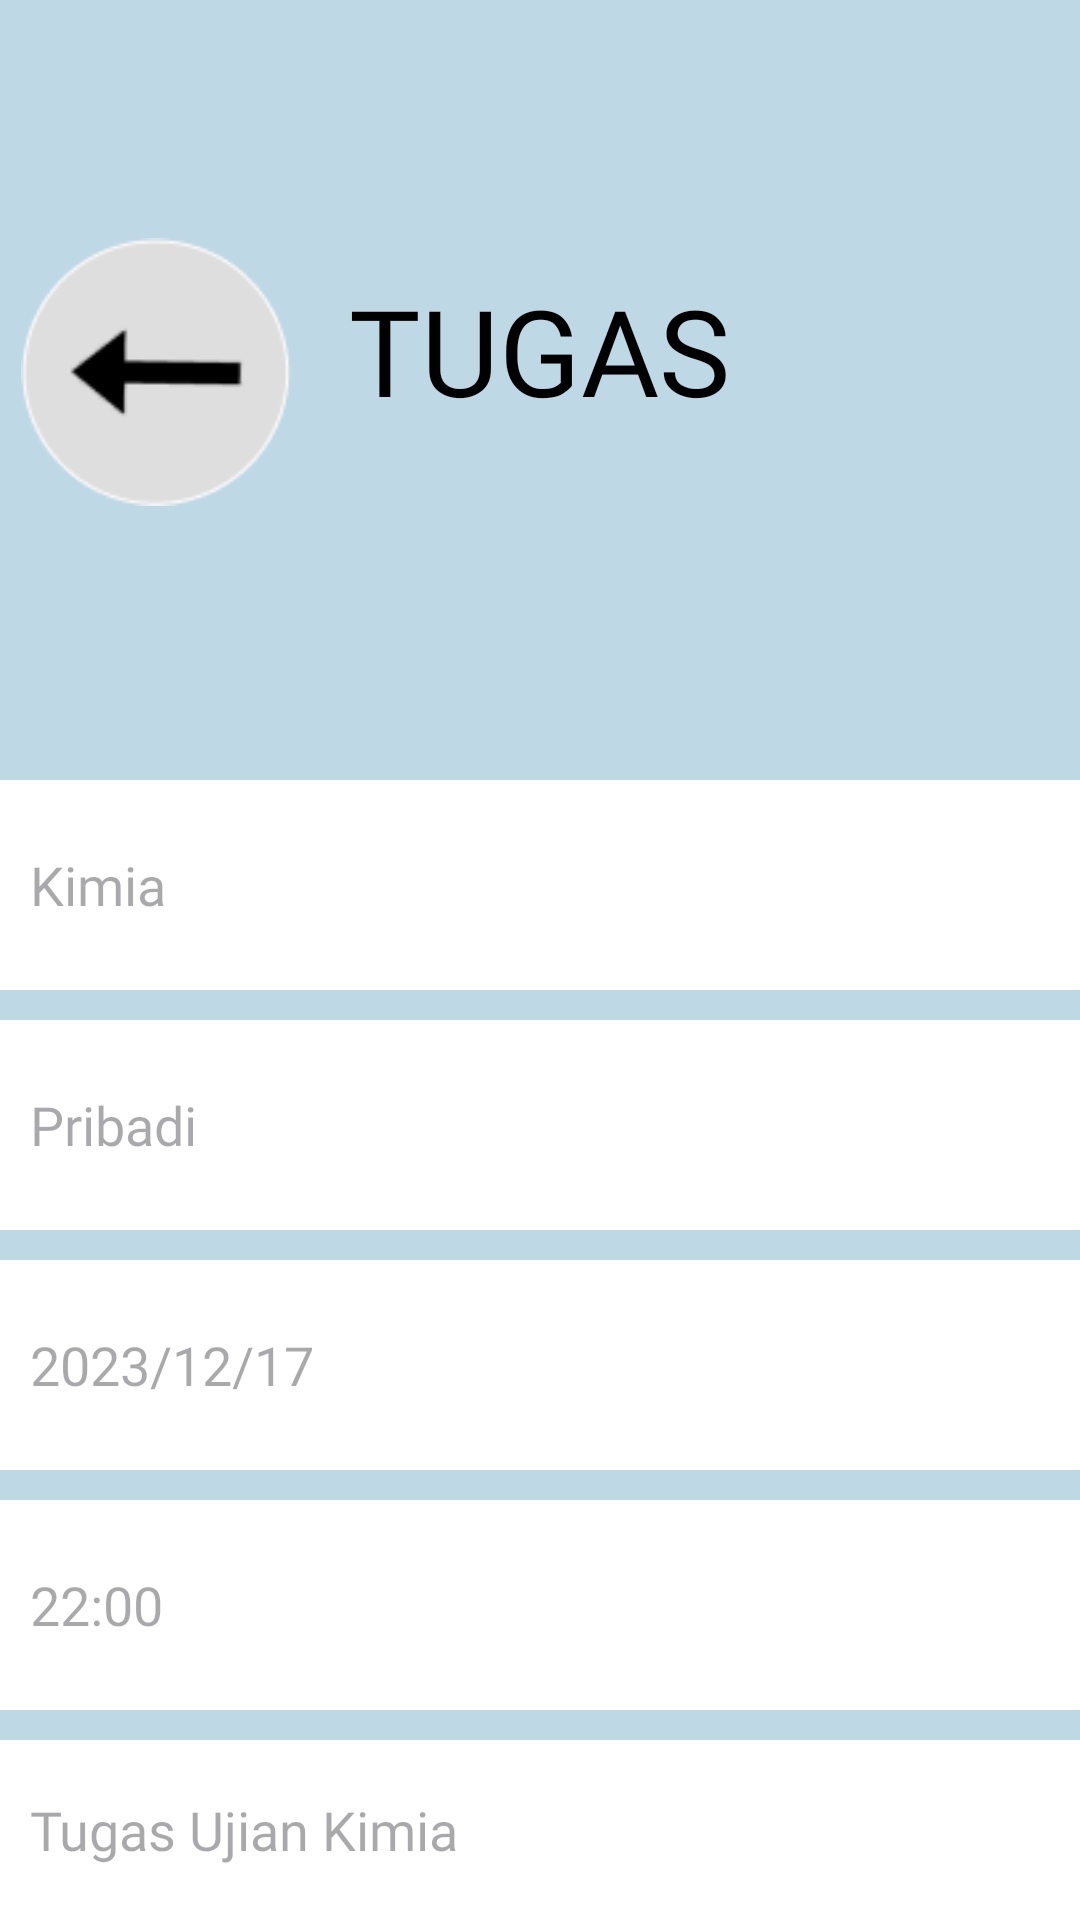

Named icons in this screenshot (1080×1920) and their bounding boxes, (x1, y1, x2, y2):
back: (22, 240, 289, 506)
